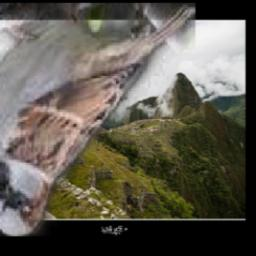Sparrow: (0, 4, 194, 237)
